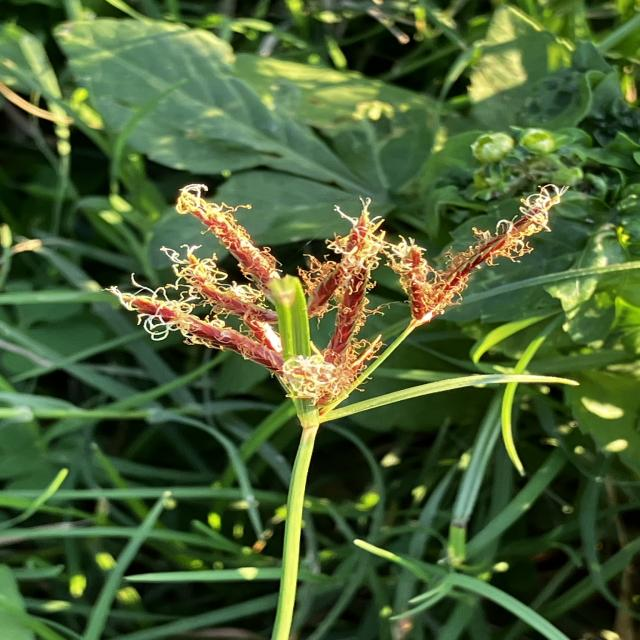cyperus: (107, 168, 585, 450)
